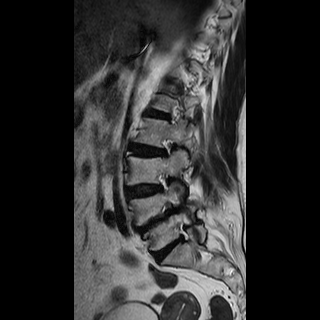RFS0: (151, 166, 177, 198), (155, 132, 181, 163)
